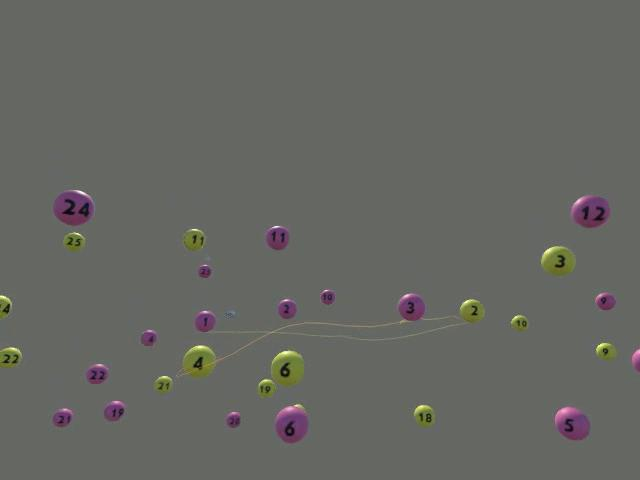ball_01_pink: (194, 310, 215, 331)
ball_02_pink: (277, 298, 296, 318)
ball_02_yellow: (459, 298, 484, 322)
ball_03_pink: (397, 293, 425, 321)
ball_03_yellow: (540, 245, 575, 275)
ball_04_pink: (140, 329, 157, 346)
ball_04_yellow: (183, 345, 215, 377)
ball_05_pink: (554, 406, 589, 440)
ball_06_pink: (274, 405, 308, 443)
ball_06_yellow: (270, 349, 304, 386)
ball_09_pink: (594, 292, 615, 310)
ball_09_yellow: (595, 342, 616, 359)
ball_10_pink: (319, 289, 335, 304)
ball_10_yellow: (510, 314, 528, 331)
ball_11_pink: (265, 225, 289, 249)
ball_11_yellow: (182, 228, 205, 250)
ball_12_pink: (570, 194, 609, 228)
ball_18_yellow: (413, 404, 434, 426)
ball_19_pink: (103, 400, 124, 421)
ball_19_yellow: (257, 378, 275, 398)
ball_20_pink: (227, 411, 242, 428)
ball_21_pink: (52, 408, 72, 427)
ball_21_yellow: (154, 376, 173, 394)
ball_22_pink: (85, 363, 108, 383)
ball_22_yellow: (0, 346, 21, 367)
ball_24_pink: (52, 189, 94, 225)
ball_25_pink: (197, 264, 211, 278)
ball_25_yellow: (62, 231, 85, 250)
ball_unknown: (1, 294, 12, 318), (631, 348, 639, 371), (293, 403, 305, 412)
